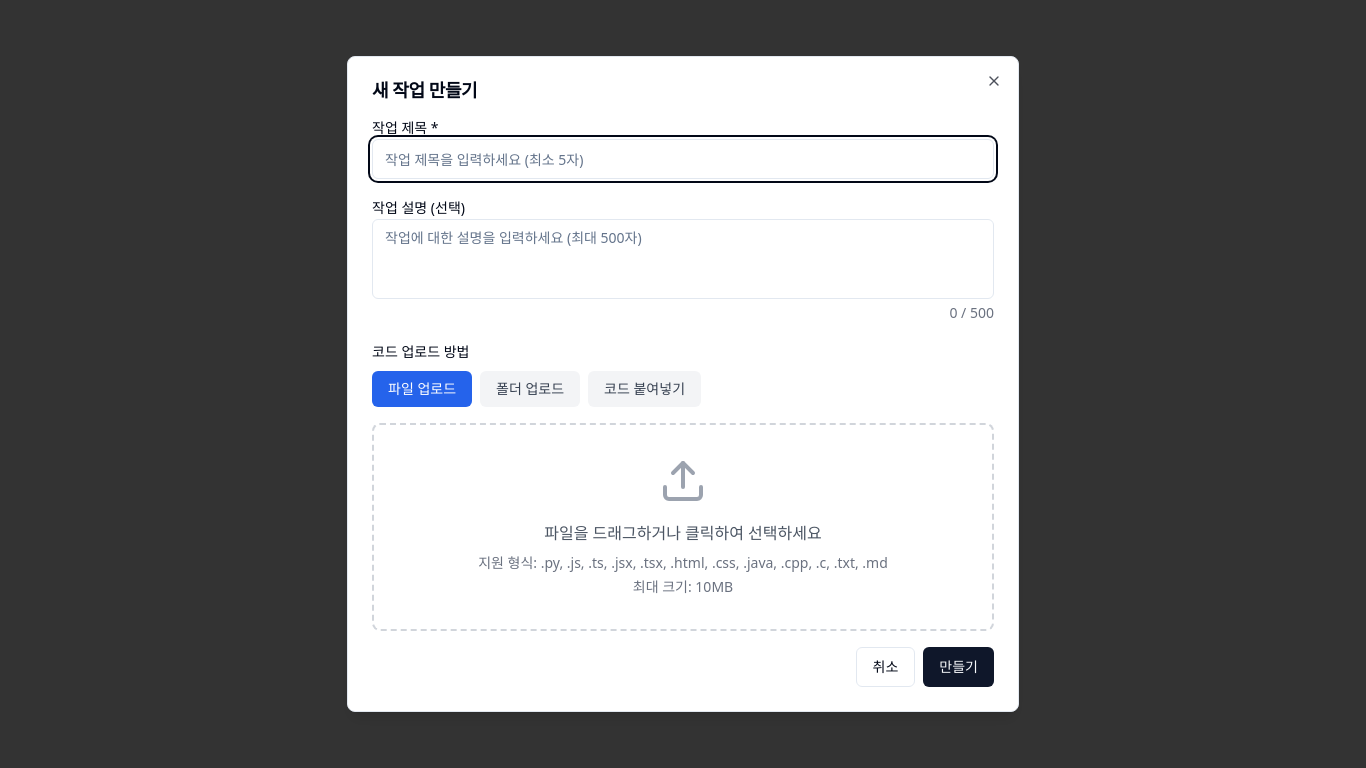
Scenario: CreateTaskModal › should switch between upload methods
The width and height of the screenshot is (1366, 768).
Click the tab "폴더 업로드". click: point(530, 389)
box: [480, 371, 580, 407]
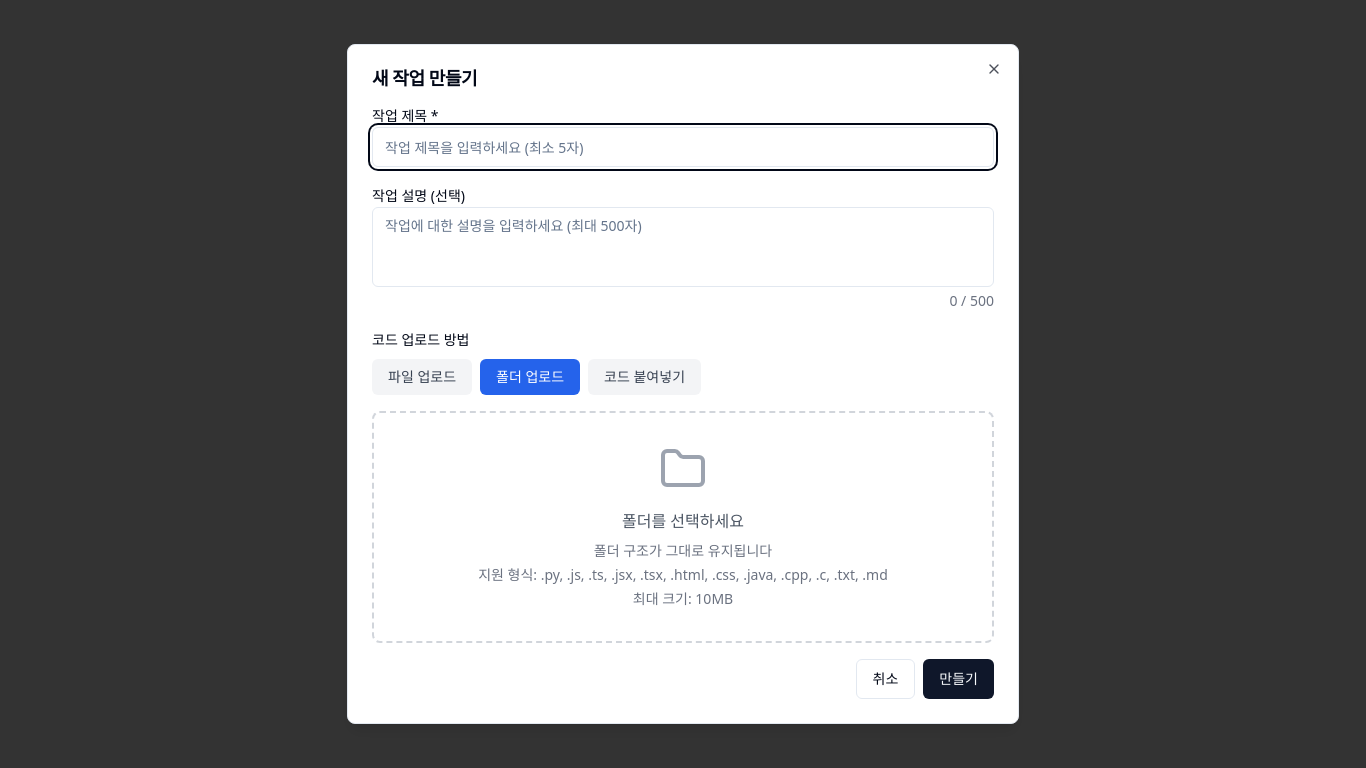
Now the text "폴더를 선택하세요" is shown, box [622, 510, 744, 532]
